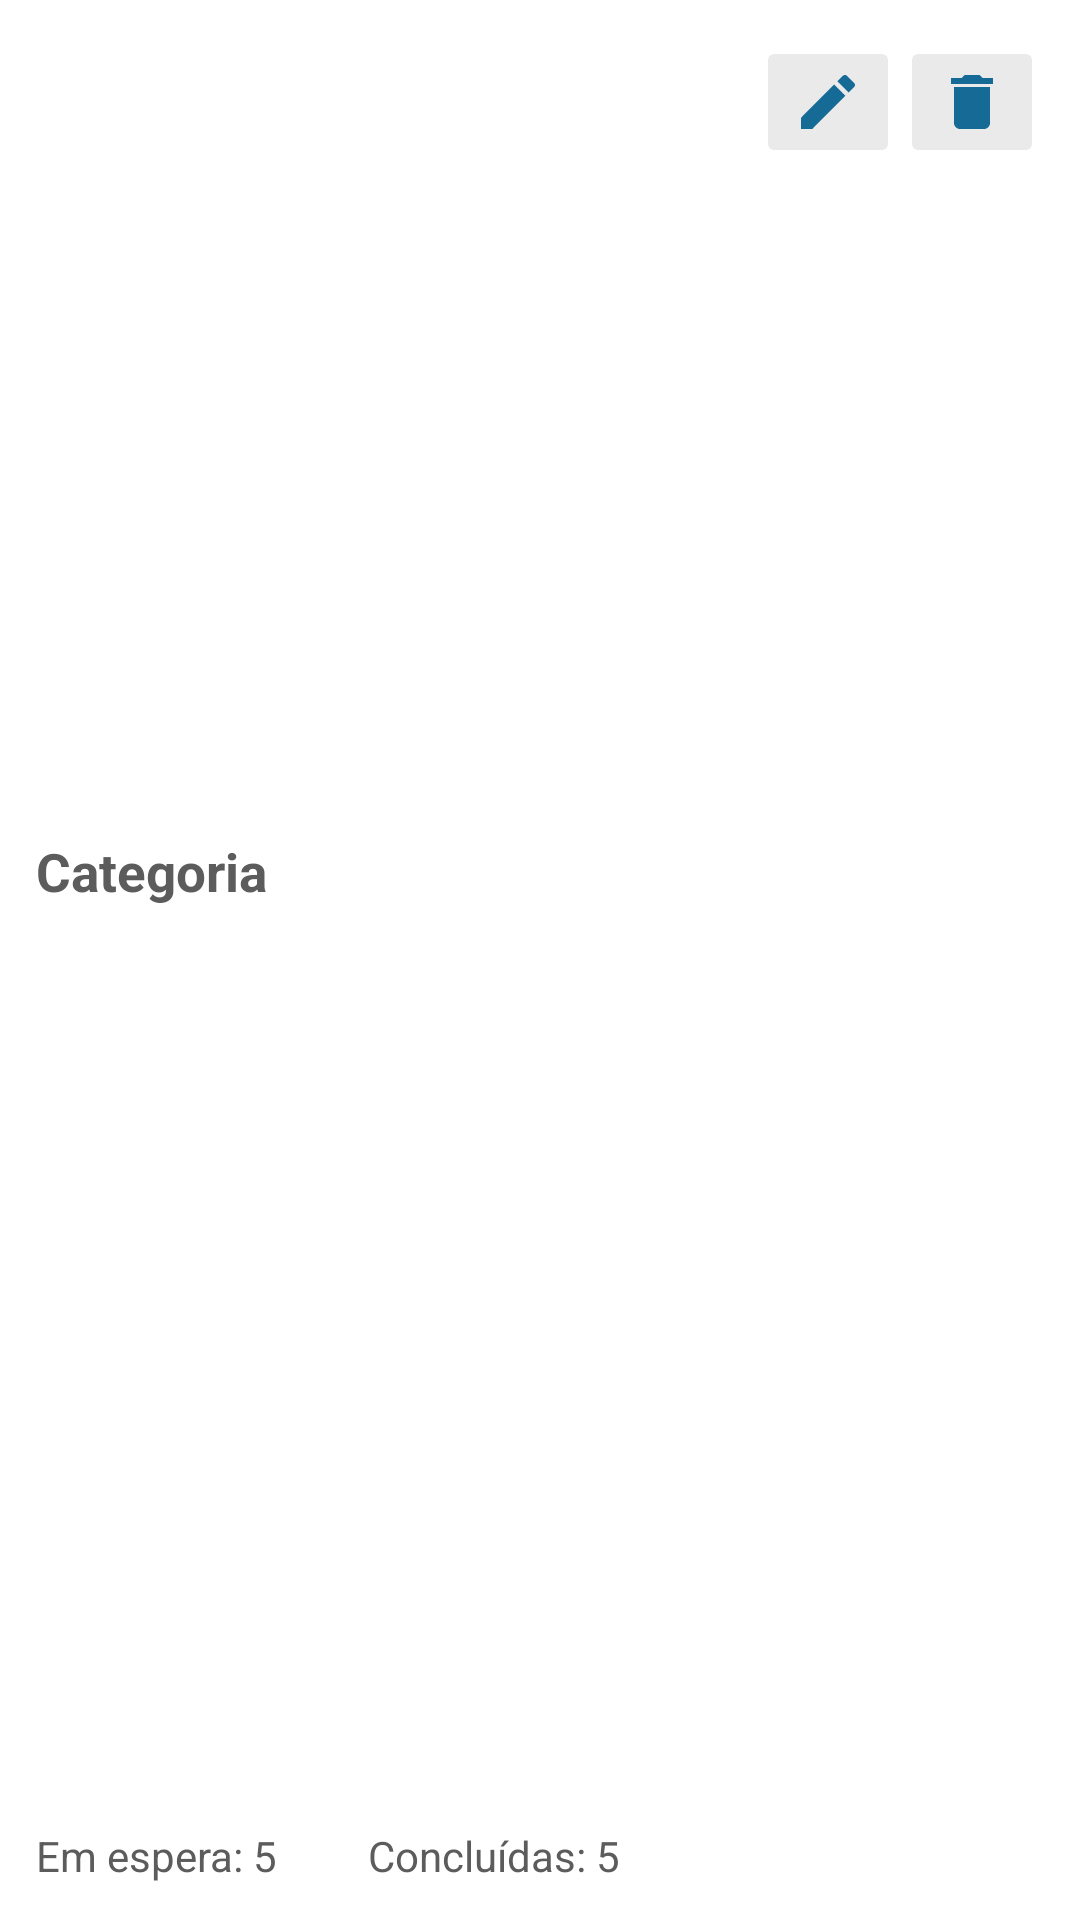

Icon bounding boxes for this 1080*1920 phone screenshot, format (x1, y1, x2, y2):
Editar: (768, 54, 888, 150)
Excluir: (951, 75, 993, 129)
